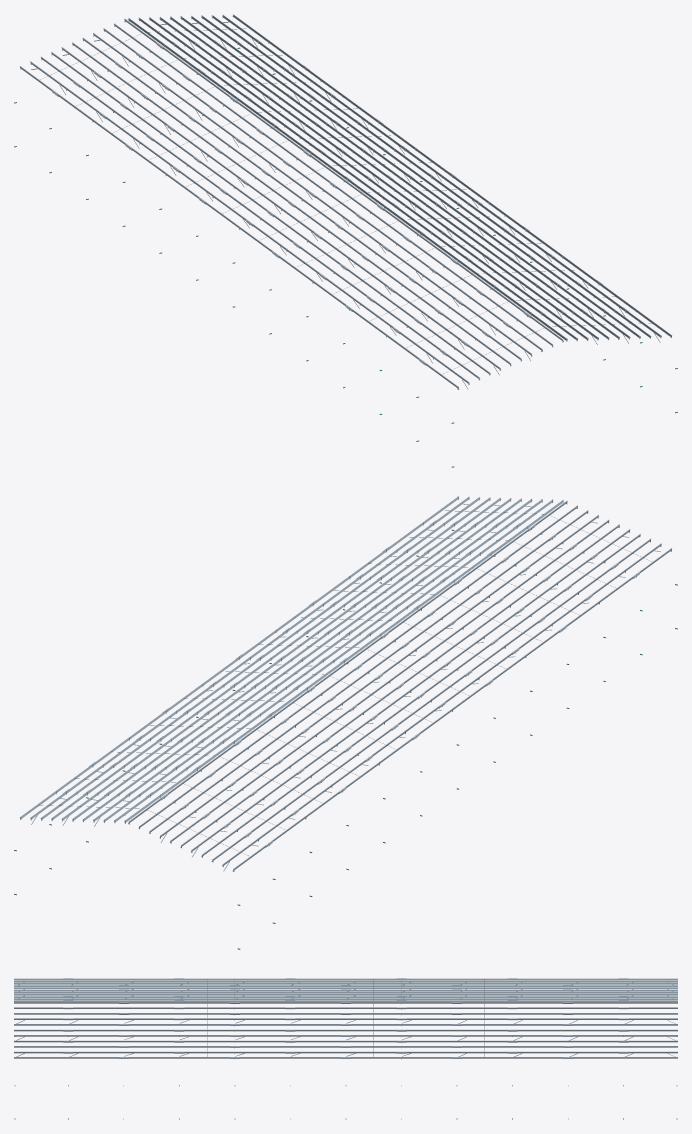
Rendered from gording.glb.
3 renders of one model, top to bottom at view 1: azimuth 30°, elevation 25°; view 2: azimuth 150°, elevation 25°; view 3: azimuth 270°, elevation 25°, orthographic. The views are drawn at different scales.
Visible parts, largest first — view 1: gording; view 2: gording; view 3: gording.
Part boxes in pixels (x1,y1,x2,y2): gording: [14, 14, 677, 467]; gording: [14, 496, 677, 949]; gording: [14, 978, 677, 1119].
Bounding box in the file's own units: 17.78 × 7.6 × 59.78.
